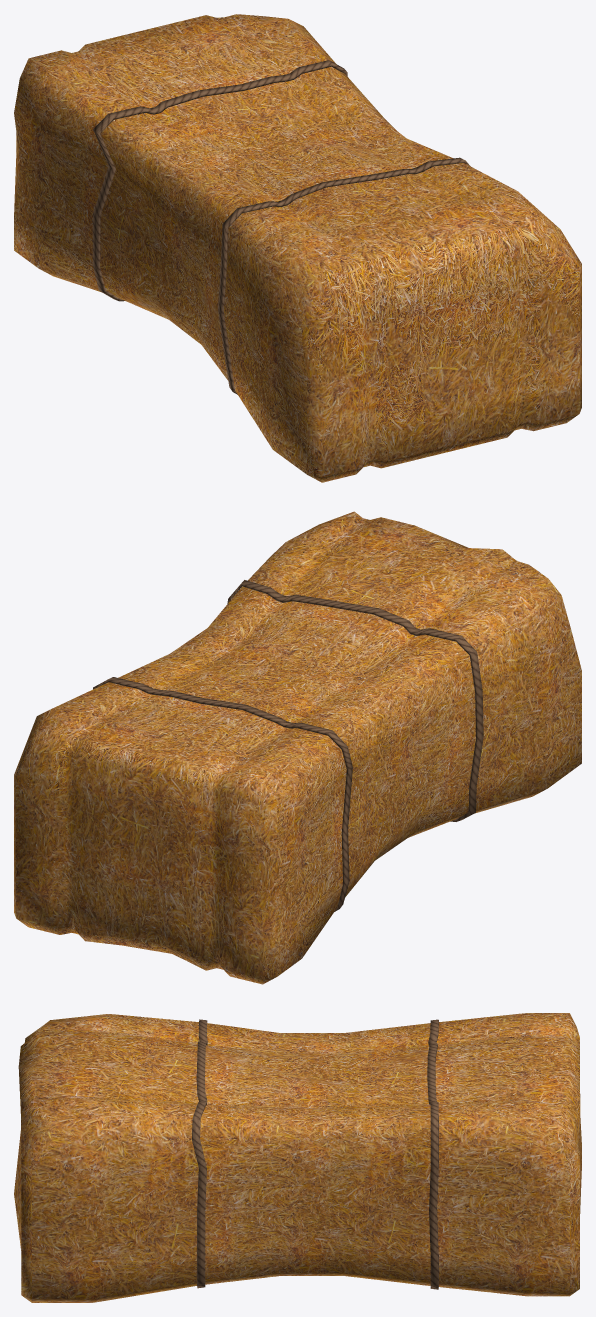
Rendered from RC_Hay_Stack_01.gltf.
3 views of the same model, one above another, from view 1: azimuth 30°, elevation 25°; view 2: azimuth 150°, elevation 25°; view 3: azimuth 270°, elevation 25° (orthographic). The views are drawn at different scales.
Parts seen in each view (by area): view 1: RC_Hay_Stack_01(Clone); view 2: RC_Hay_Stack_01(Clone); view 3: RC_Hay_Stack_01(Clone).
Boxes of the visible parts, bbox=[...] form: RC_Hay_Stack_01(Clone): bbox=[14, 14, 581, 482]; RC_Hay_Stack_01(Clone): bbox=[14, 511, 581, 984]; RC_Hay_Stack_01(Clone): bbox=[14, 1013, 581, 1302].
Size of the model in its own units: 0.7602 by 0.5538 by 1.49.
2 materials, 2 textured.
